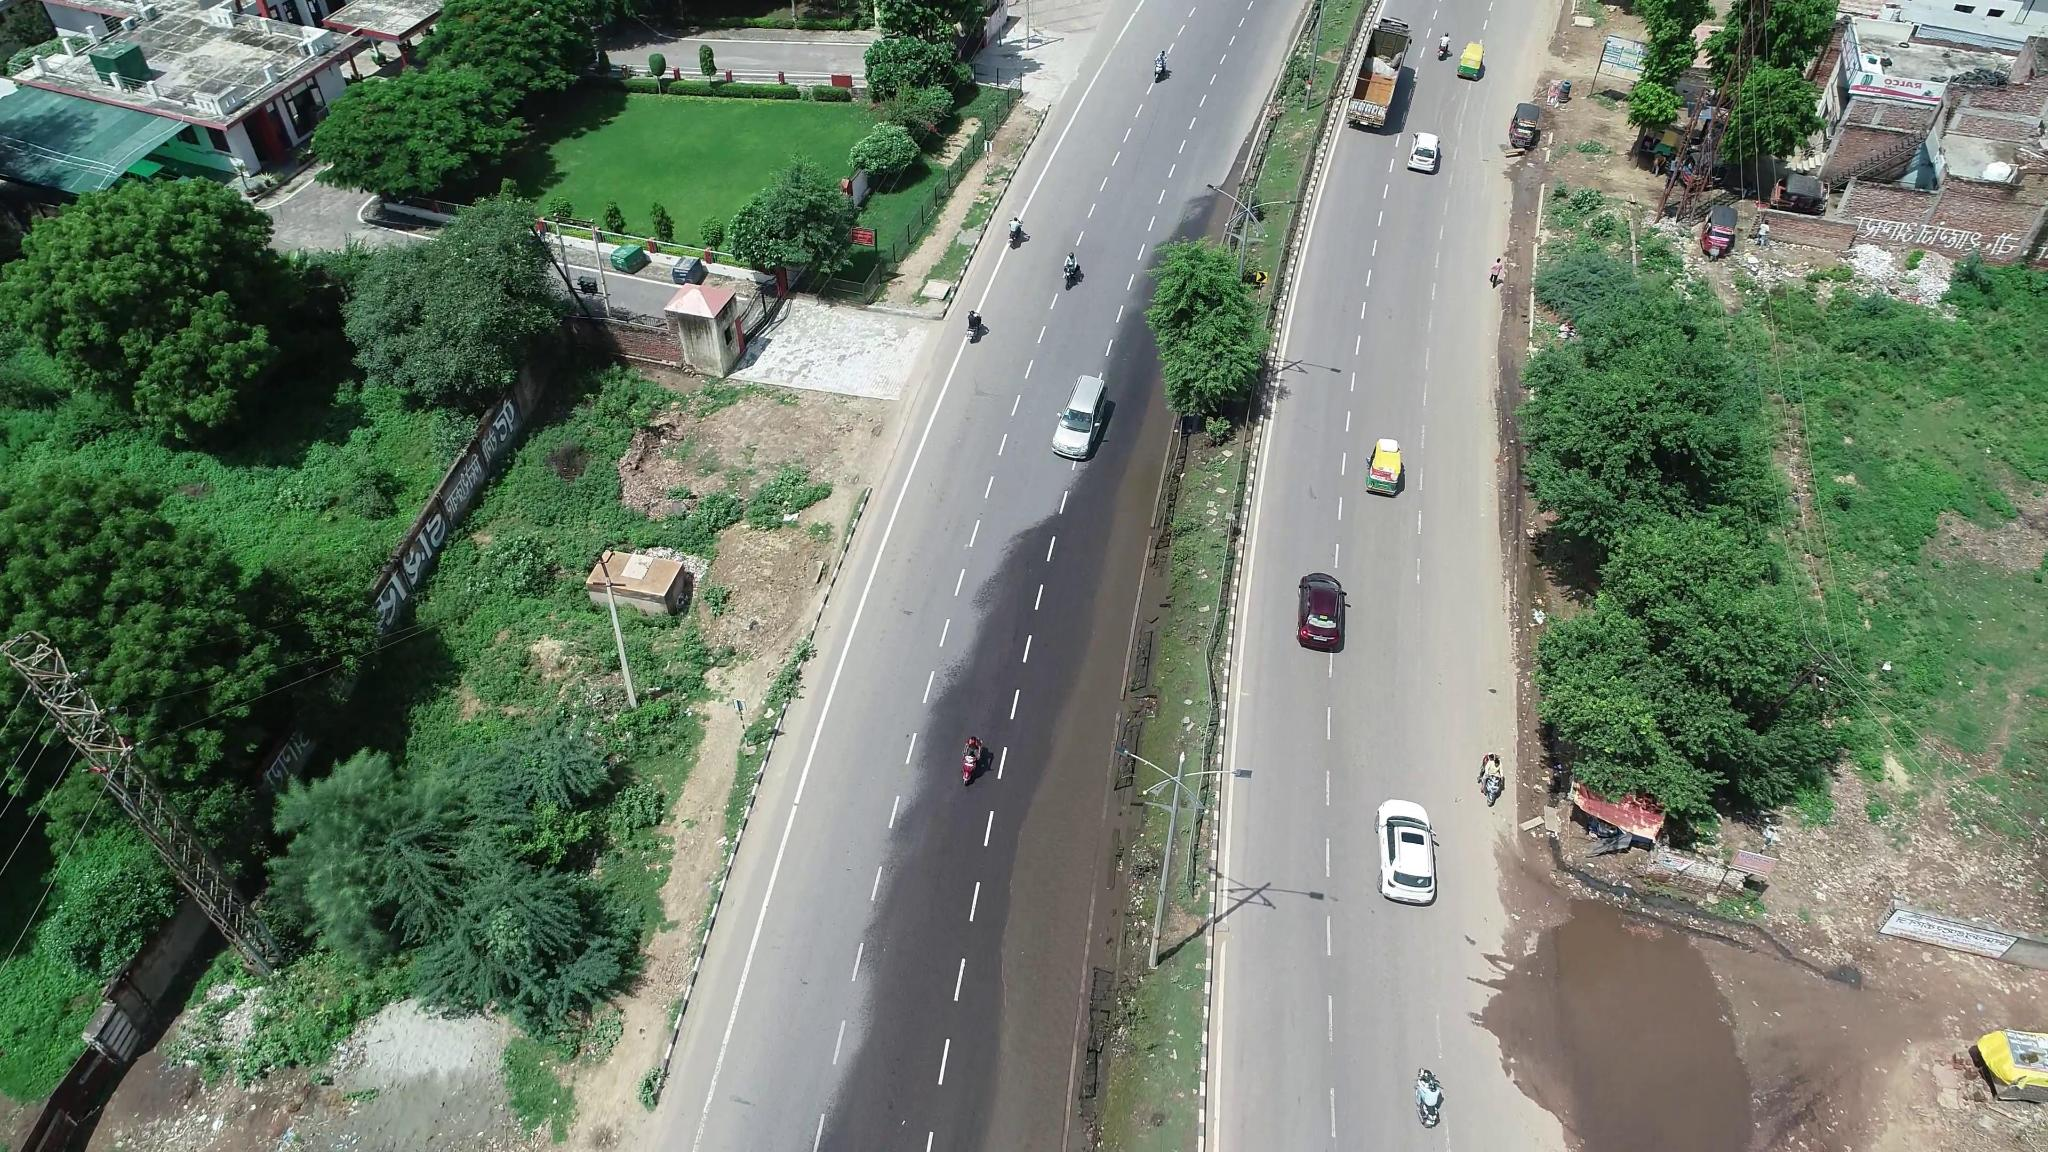Waterlogging: (926, 670, 1117, 1032)
